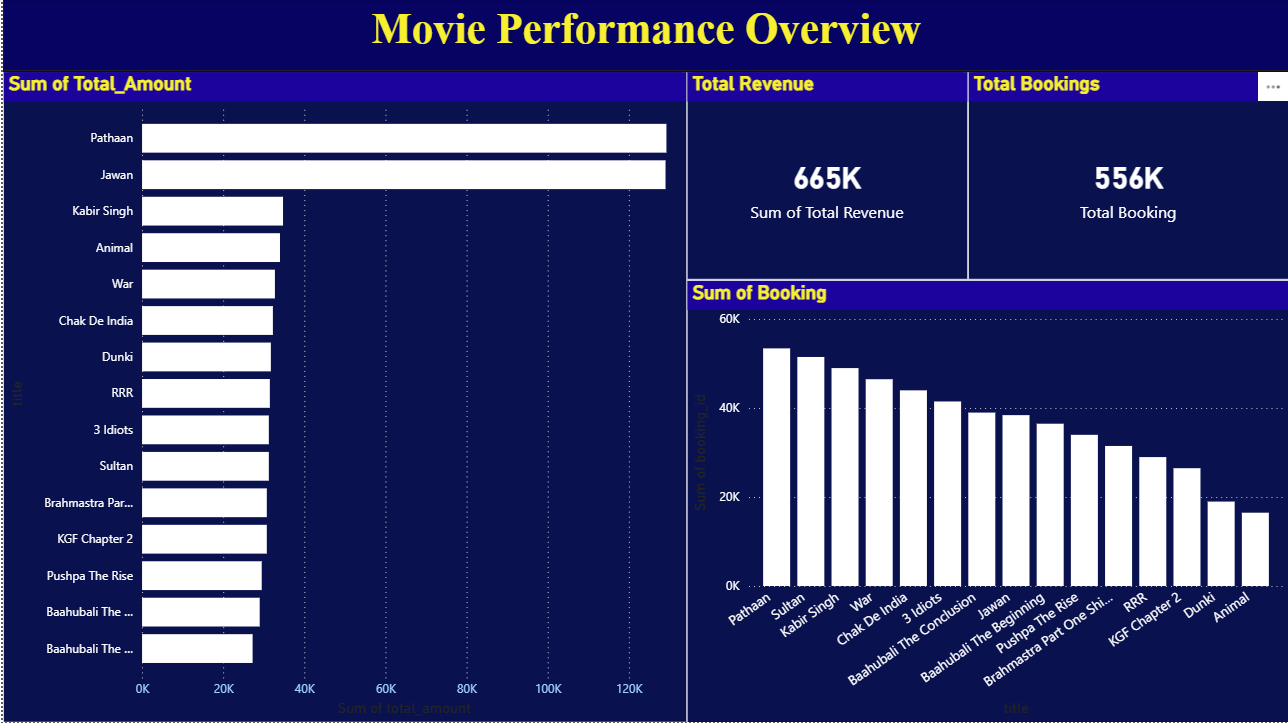

Layout of this report page (visuals, bound fields, positions):
{"tool":"powerbi","page":{"name":"Page 1","canvas":[1280,720],"ordinal":0},"visuals":[{"type":"clusteredBarChart","title":"Sum of Total_Amount","fields":{"Y":["Sum(bookings.total_amount)"],"Category":["movies.title"]},"box":[0,72.7,680.6,647.7],"z":0},{"type":"card","title":"Total Revenue","fields":{"Values":["Sum(bookings.total_amount)"]},"box":[680.6,72.7,279.9,207.2],"z":1000},{"type":"card","title":"Total Bookings","fields":{"Values":["Sum(bookings.booking_id)"]},"box":[960.6,72.7,319.7,207.2],"z":2000},{"type":"clusteredColumnChart","title":"Sum of Booking","fields":{"Category":["movies.title"],"Y":["Sum(bookings.booking_id)"]},"box":[680.6,279.9,599.7,440.5],"z":3000},{"type":"textbox","box":[0,0,1280.3,72.7],"z":4000}]}

Visuals, with their boxes in screenshot pixels (x1, y1, x2, y2), scaled from the page's 1280x720 canvas onto the 1288x723 screenshot:
"Sum of Total_Amount" clusteredBarChart: pyautogui.locateOnScreen(0, 73, 685, 722)
"Total Revenue" card: pyautogui.locateOnScreen(685, 73, 967, 281)
"Total Bookings" card: pyautogui.locateOnScreen(967, 73, 1287, 281)
"Sum of Booking" clusteredColumnChart: pyautogui.locateOnScreen(685, 281, 1287, 722)
textbox: pyautogui.locateOnScreen(0, 0, 1287, 73)
